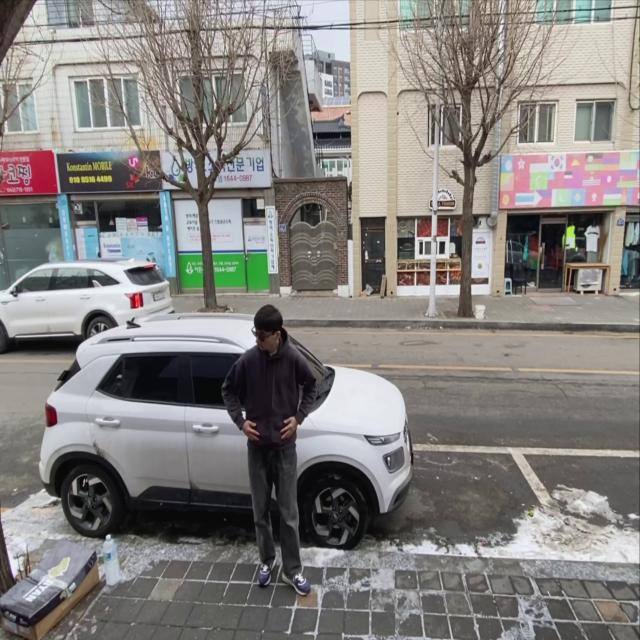bare_hand: (278, 416, 299, 443), (243, 418, 262, 444)
